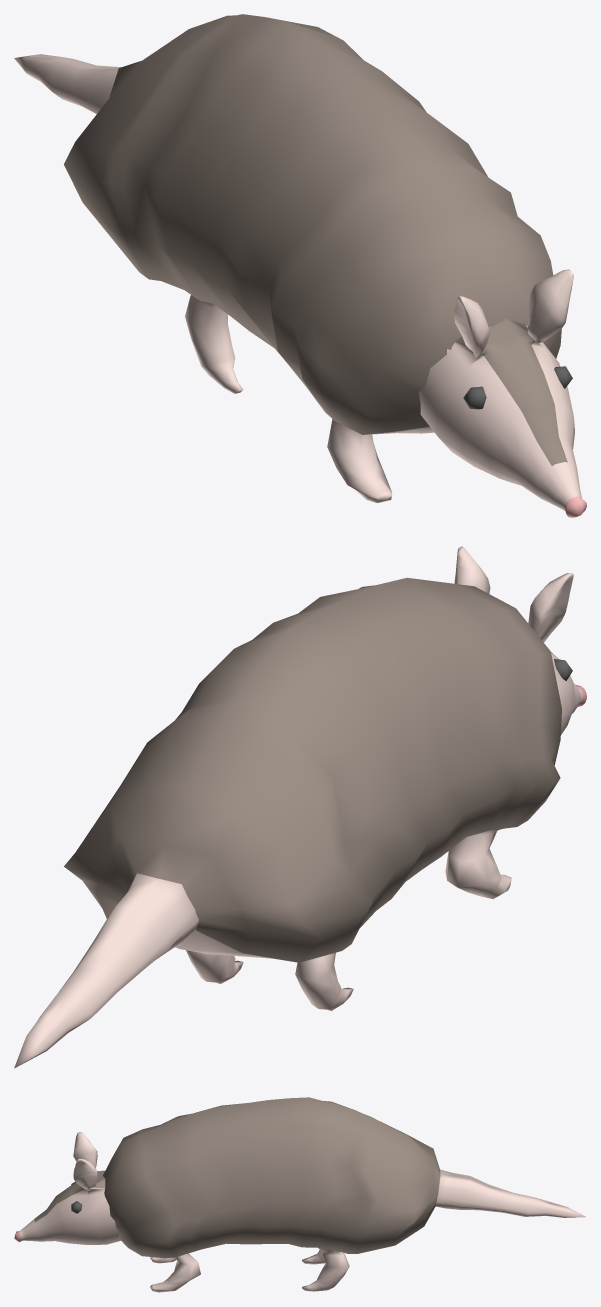
Rendered from NOVELO_ARMADILLO.gltf.
3 renders of one model, top to bottom at view 1: azimuth 30°, elevation 25°; view 2: azimuth 150°, elevation 25°; view 3: azimuth 270°, elevation 25°, orthographic. The views are drawn at different scales.
Parts seen in each view (by area): view 1: node-0; view 2: node-0; view 3: node-0.
Boxes of the visible parts, x1,y1,x2,y2 form: node-0: (14, 14, 586, 517); node-0: (14, 546, 586, 1068); node-0: (14, 1097, 585, 1292).
Bounding box in the file's own units: 176 × 233 × 674.
